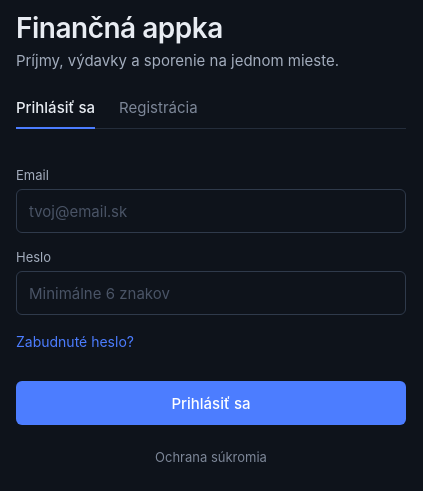
Test: zabudnuté heslo: pošle odkaz na zadaný email a vráti sa na stránku appky
The width and height of the screenshot is (423, 491).
Click the button "Zabudnuté heslo?" at point(75, 341), box [16,325,134,357]
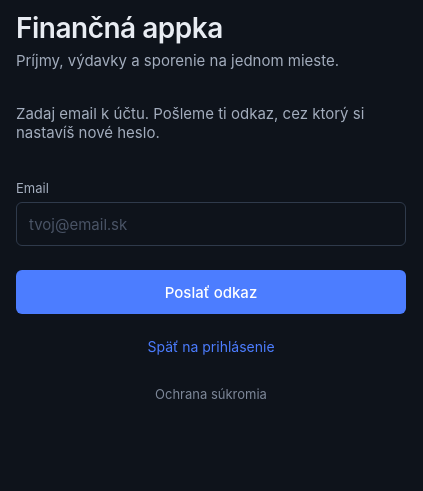
Type "jano@test.sk" into the field labelled "Email" at point(211, 224), box [16,202,406,246]
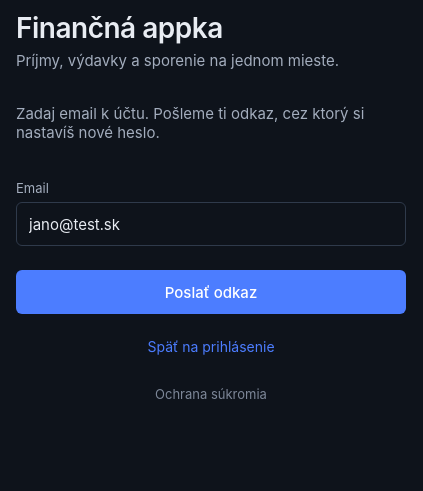
Click the button "Poslať odkaz" at point(211, 292), box [16,270,406,314]
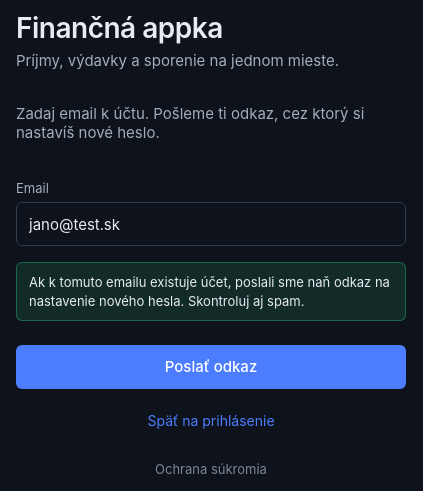
Result: the text "poslali sme naň odkaz" is shown at [29,274,390,309]
